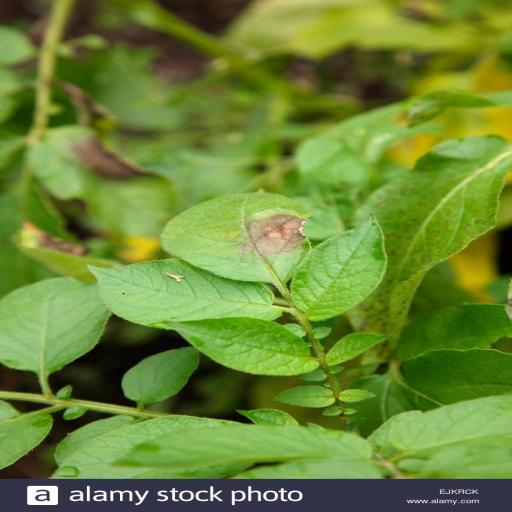Late Blight: (150, 188, 313, 286)
